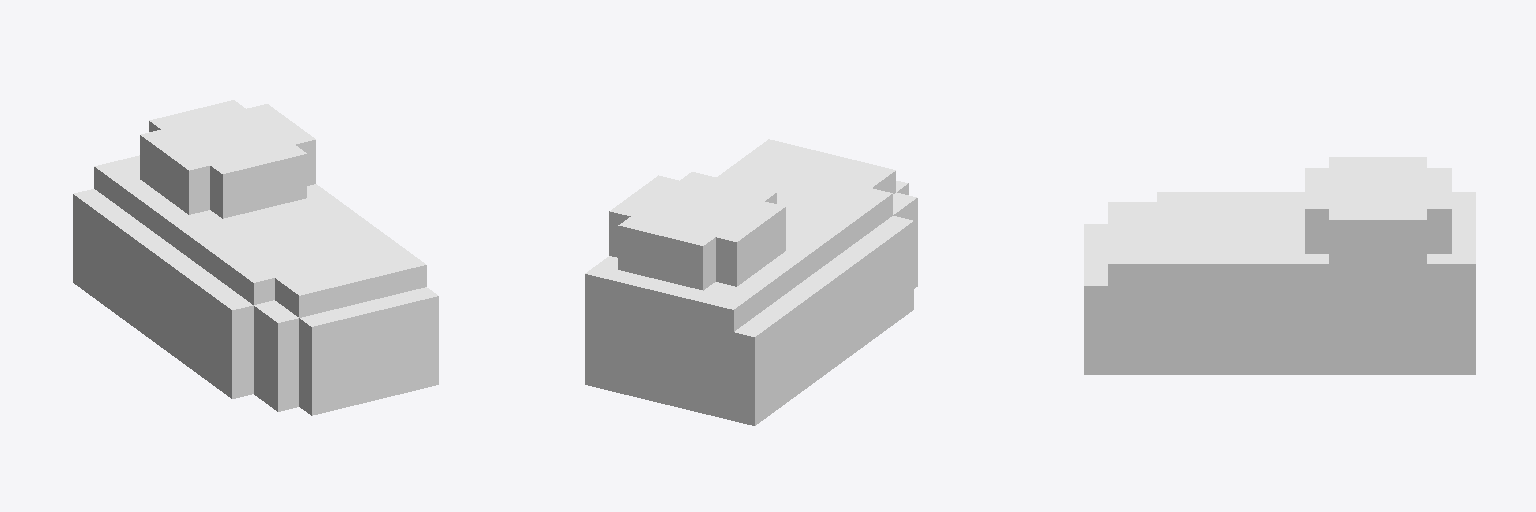
The model's file is left_foot.obj.
3 views of the same model, side by side, from view 1: azimuth 30°, elevation 25°; view 2: azimuth 150°, elevation 25°; view 3: azimuth 270°, elevation 25° (orthographic).
Bounding box in the file's own units: 1 × 0.875 × 2.